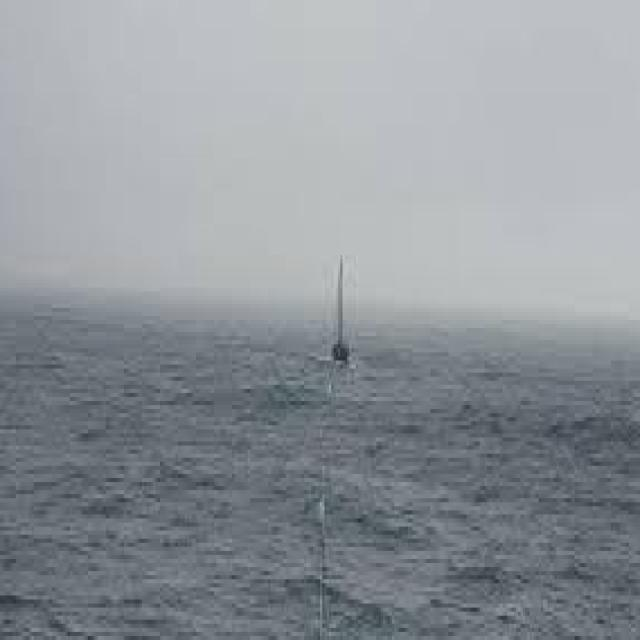sailboat: (330, 246, 359, 382)
